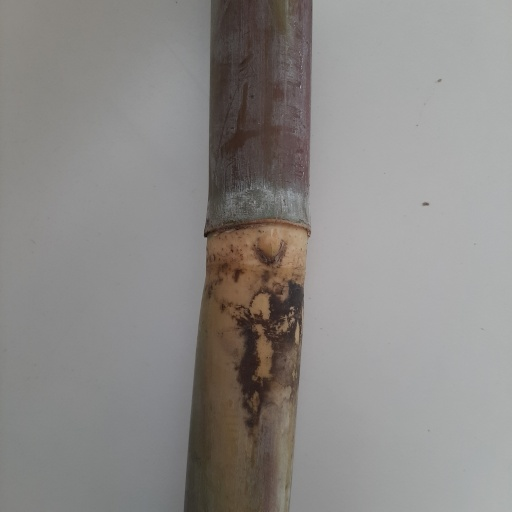Bud: (253, 225, 286, 266)
